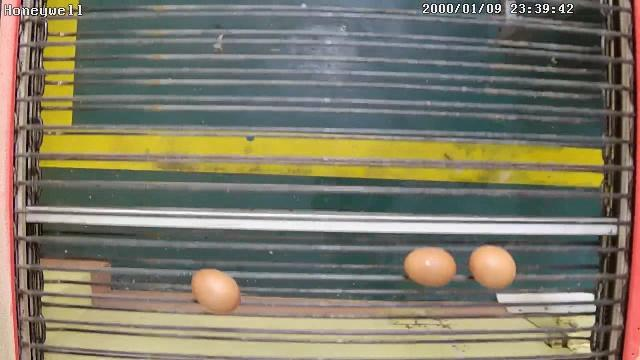egg: (190, 267, 242, 315), (404, 245, 458, 290), (470, 242, 518, 291)
